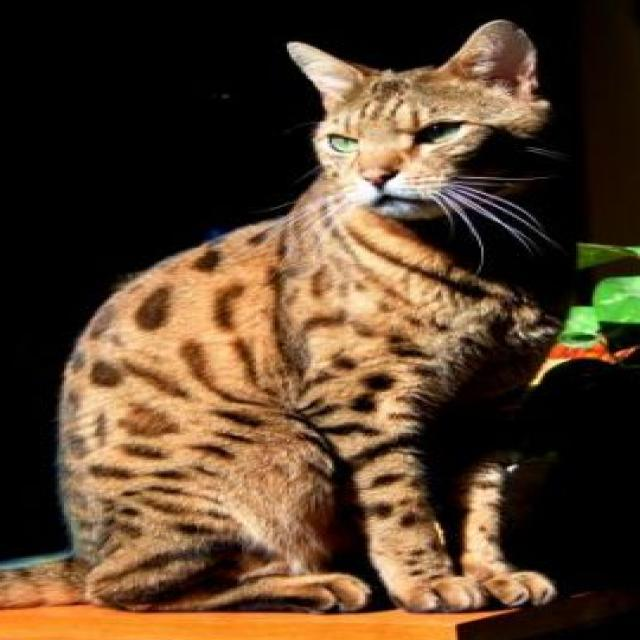Bengal: (0, 12, 583, 620)
